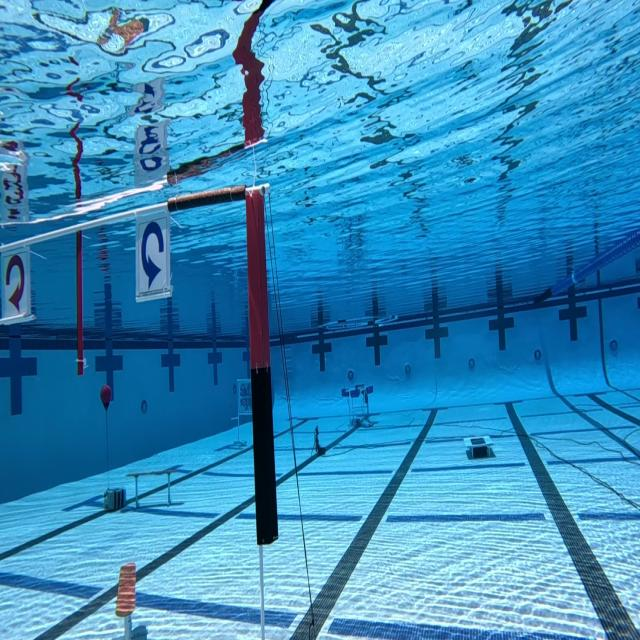blue_side: (133, 209, 175, 302)
red_side: (0, 243, 31, 323)
